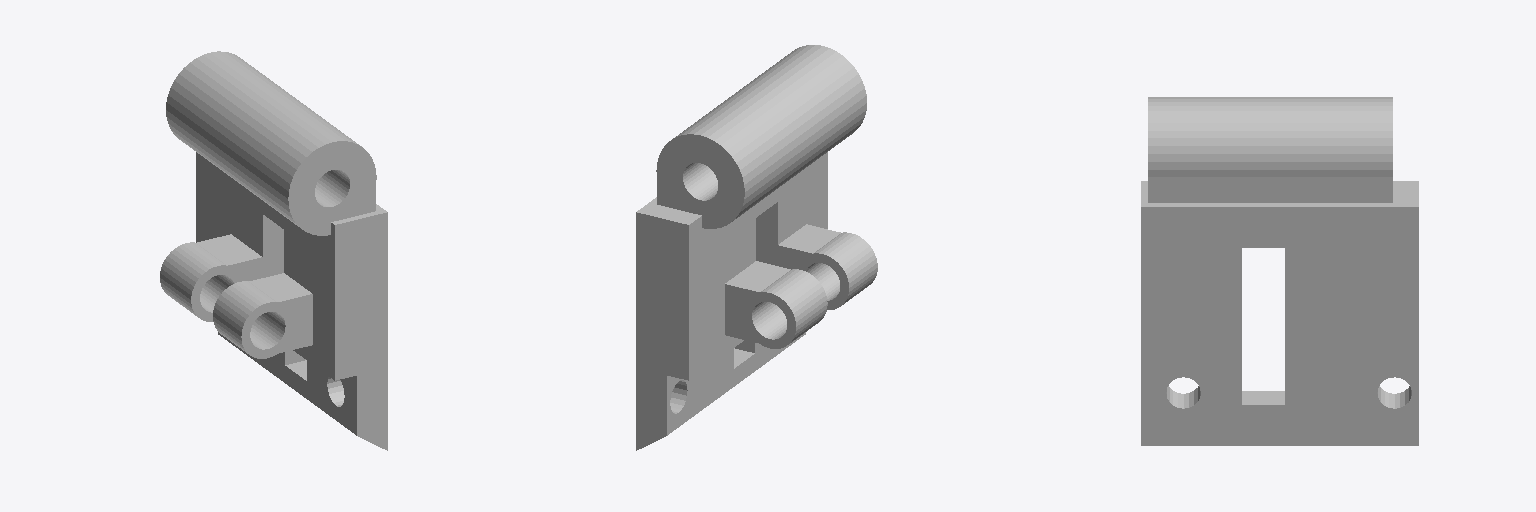
Rendered from Gate.obj.
3 renders of one model, left to right at view 1: azimuth 30°, elevation 25°; view 2: azimuth 150°, elevation 25°; view 3: azimuth 270°, elevation 25°, orthographic.
Parts seen in each view (by area): view 1: pCube32; view 2: pCube32; view 3: pCube32.
Part boxes in pixels (x1,y1,x2,y2): pCube32: (160,51,387,450); pCube32: (636,45,877,450); pCube32: (1141,97,1418,445).
Bounding box in the file's own units: 14.08 × 34.46 × 27.3.